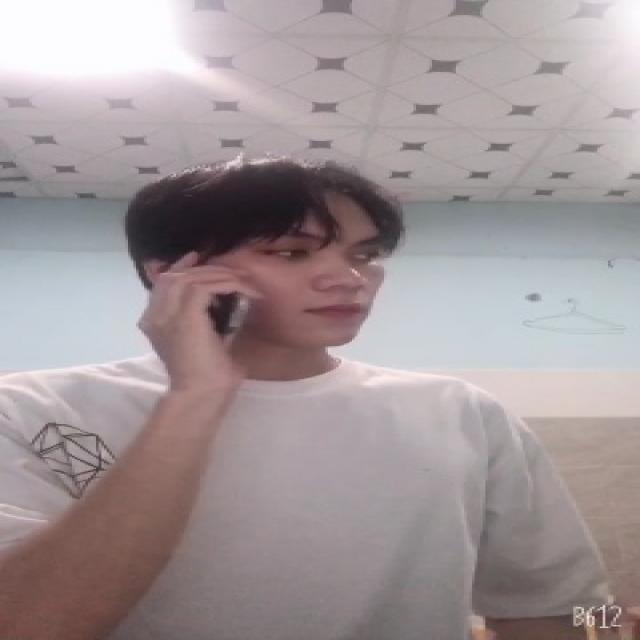Phone: (197, 278, 263, 350)
